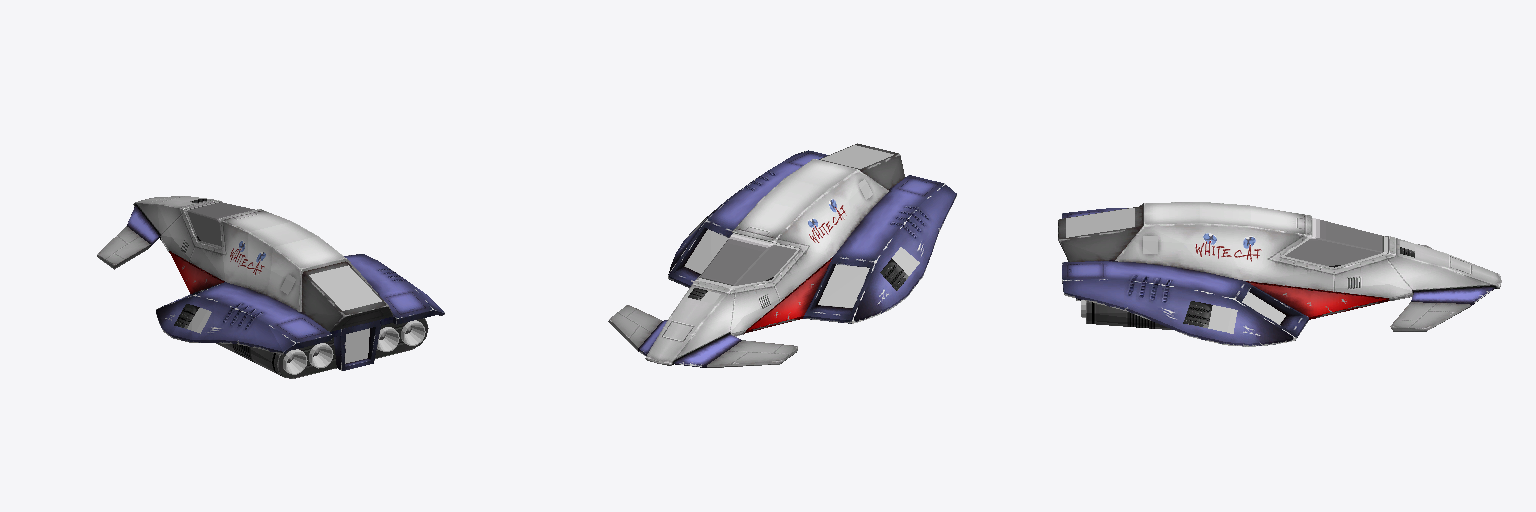
The picture shows the model from 3 angles: view 1: azimuth 30°, elevation 25°; view 2: azimuth 150°, elevation 25°; view 3: azimuth 270°, elevation 25°; orthographic projection.
Visible parts, largest first — view 1: 02_whitecat_a; view 2: 02_whitecat_a; view 3: 02_whitecat_a.
Boxes of the visible parts, x1,y1,x2,y2 form: 02_whitecat_a: [97, 196, 444, 378]; 02_whitecat_a: [608, 143, 956, 367]; 02_whitecat_a: [1058, 202, 1501, 346].
Size of the model in its own units: 2.53 by 0.9451 by 4.36.
Materials: 20 (5 with a texture image).